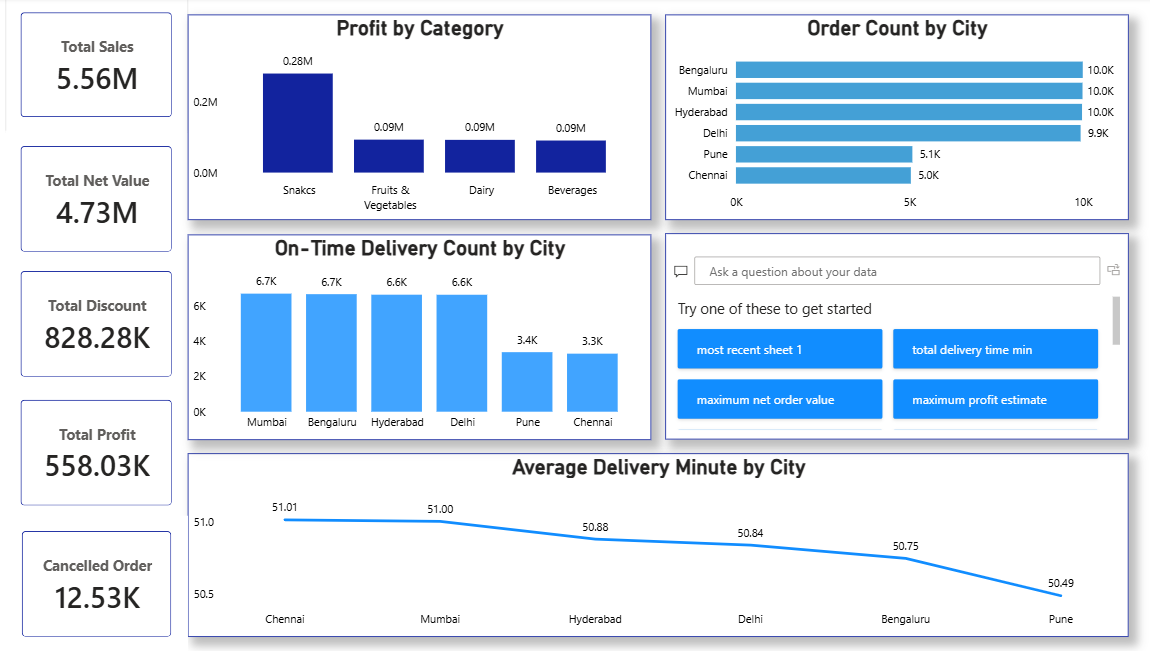

The dashboard page shown, as its layout file describes it:
{"tool":"powerbi","page":{"name":"Page 1","canvas":[1280,720],"ordinal":0},"visuals":[{"type":"cardVisual","fields":{"Data":["Sum(Sheet1.Total Sales)"]},"box":[12.3,0,200.3,149.6],"z":0},{"type":"cardVisual","fields":{"Data":["Sum(Sheet1.Net Order Value)"]},"box":[12.3,146.8,200,150],"z":1000},{"type":"cardVisual","fields":{"Data":["Sum(Sheet1.Discount Amount)"]},"box":[12.3,284,200,150],"z":2000},{"type":"cardVisual","fields":{"Data":["Sum(Sheet1.Profit_Estimate)"]},"box":[12.3,425.4,200,150],"z":3000},{"type":"clusteredColumnChart","fields":{"Y":["Sum(Sheet1.Profit_Estimate)"],"Category":["Sheet1.Product_Category"]},"box":[213.1,19.9,508.7,225.9],"z":4000},{"type":"barChart","fields":{"Y":["Count(Sheet1.Order_ID)"],"Category":["Sheet1.Customer_City"]},"box":[737.5,19.9,508.7,225.9],"z":5000},{"type":"lineChart","fields":{"Category":["Sheet1.Customer_City"],"Y":["Avg(Sheet1.Delivery_Time_Min)"]},"box":[213.1,500.2,1033,201.8],"z":6000},{"type":"clusteredColumnChart","fields":{"Category":["Sheet1.Customer_City"],"Y":["CountNonNull(Sheet1.Delivery_SLA_Status)"]},"box":[213.1,260,508.7,225.9],"z":7000},{"type":"qnaVisual","box":[737,260,509,226],"z":8000},{"type":"cardVisual","fields":{"Data":["CountNonNull(Sheet1.Order_Status)"]},"box":[14.2,569.8,198.9,150.6],"z":9000}]}

Visuals, with their boxes in screenshot pixels (x1, y1, x2, y2), scaled from the page's 1280x720 canvas onto the 1150x651 screenshot:
cardVisual - Sum(Sheet1.Total Sales): x1=11 y1=0 x2=191 y2=135
cardVisual - Sum(Sheet1.Net Order Value): x1=11 y1=133 x2=191 y2=268
cardVisual - Sum(Sheet1.Discount Amount): x1=11 y1=257 x2=191 y2=392
cardVisual - Sum(Sheet1.Profit_Estimate): x1=11 y1=385 x2=191 y2=520
clusteredColumnChart - Sum(Sheet1.Profit_Estimate) x Sheet1.Product_Category: x1=191 y1=18 x2=648 y2=222
barChart - Count(Sheet1.Order_ID) x Sheet1.Customer_City: x1=663 y1=18 x2=1120 y2=222
lineChart - Sheet1.Customer_City x Avg(Sheet1.Delivery_Time_Min): x1=191 y1=452 x2=1120 y2=635
clusteredColumnChart - Sheet1.Customer_City x CountNonNull(Sheet1.Delivery_SLA_Status): x1=191 y1=235 x2=648 y2=439
qnaVisual: x1=662 y1=235 x2=1119 y2=439
cardVisual - CountNonNull(Sheet1.Order_Status): x1=13 y1=515 x2=191 y2=650
